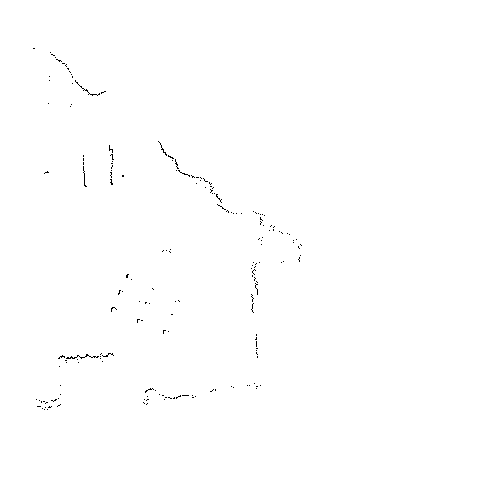pallet: (110, 272, 181, 334)
